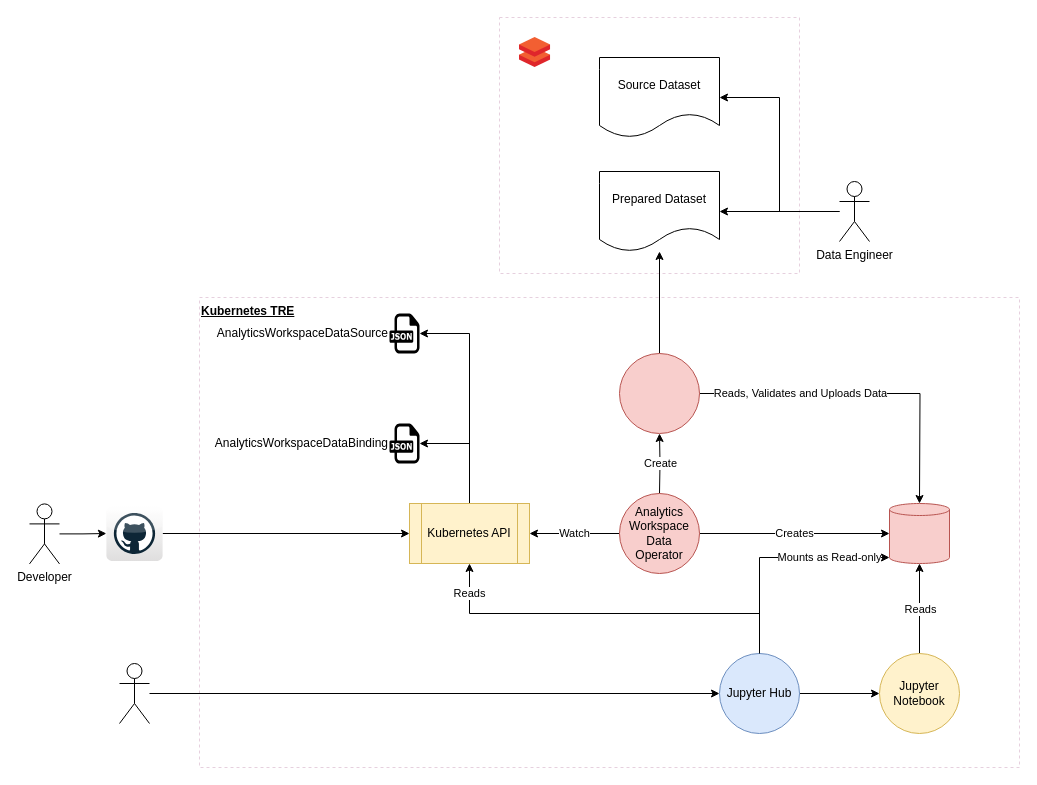
Image size: 1037x785. Some labels were removed from this diagram. Here are the shapes that lost their labels. From the top down, the centre of each, then its label:
At pixel 534 52: "Databricks".
At pixel 659 393: "Job".
At pixel 134 533: "Git Repository".
At pixel 919 533: "PVC".
At pixel 134 693: "Research Engineer".
